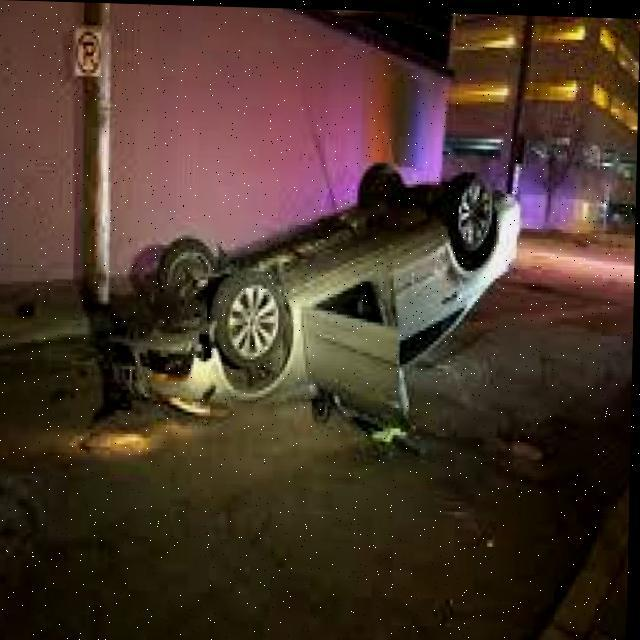single accident: (24, 3, 624, 506)
